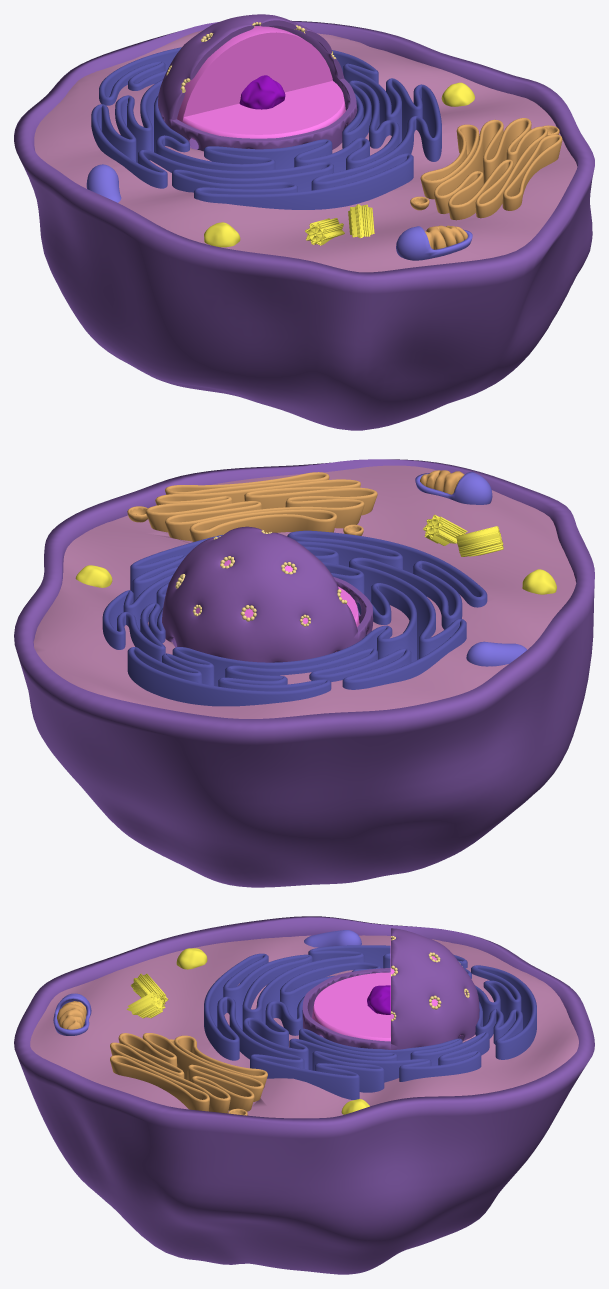
File: animalmit.gltf
The picture shows the model from 3 angles, top to bottom: view 1: azimuth 30°, elevation 25°; view 2: azimuth 150°, elevation 25°; view 3: azimuth 270°, elevation 25°; orthographic projection. The views are drawn at different scales.
Visible parts, largest first — view 1: Sphere, Sphere.001, BezierCurve, Roundcube, BezierCurve.002, Icosphere, Sphere.002, Roundcube.000, Roundcube.002, Roundcube.001, Sphere.005; view 2: Sphere, Sphere.001, BezierCurve, Icosphere, BezierCurve.002, Sphere.002, Roundcube.000, Roundcube.002, Icosphere.002, Sphere.005; view 3: Sphere, Sphere.001, BezierCurve, Icosphere, BezierCurve.002, Roundcube, Sphere.002, Roundcube.000, Roundcube.002, Sphere.005, Roundcube.001.
Part boxes in pixels (<box>): Sphere: <box>14,20,594,430</box>; Sphere.001: <box>34,30,577,272</box>; BezierCurve: <box>91,47,441,209</box>; Roundcube: <box>177,26,345,139</box>; BezierCurve.002: <box>410,118,562,220</box>; Icosphere: <box>158,14,357,151</box>; Sphere.002: <box>86,164,472,260</box>; Roundcube.000: <box>305,204,374,245</box>; Roundcube.002: <box>204,82,474,247</box>; Roundcube.001: <box>239,75,285,109</box>; Sphere.005: <box>424,225,467,249</box>; Sphere: <box>14,459,594,887</box>; Sphere.001: <box>33,465,576,718</box>; BezierCurve: <box>102,530,487,706</box>; Icosphere: <box>162,526,373,662</box>; BezierCurve.002: <box>127,472,377,541</box>; Sphere.002: <box>415,471,527,666</box>; Roundcube.000: <box>423,514,503,556</box>; Roundcube.002: <box>75,565,556,594</box>; Icosphere.002: <box>175,530,347,626</box>; Sphere.005: <box>420,470,464,494</box>; Sphere: <box>14,916,594,1274</box>; Sphere.001: <box>30,935,578,1118</box>; BezierCurve: <box>204,945,536,1099</box>; Icosphere: <box>302,928,479,1049</box>; BezierCurve.002: <box>110,1033,267,1115</box>; Roundcube: <box>312,940,466,1041</box>; Sphere.002: <box>53,930,361,1035</box>; Roundcube.000: <box>126,973,168,1018</box>; Roundcube.002: <box>176,948,369,1114</box>; Sphere.005: <box>57,1001,86,1029</box>; Roundcube.001: <box>367,985,390,1014</box>.
Size of the model in its own units: 5.96 by 3.98 by 7.05.
